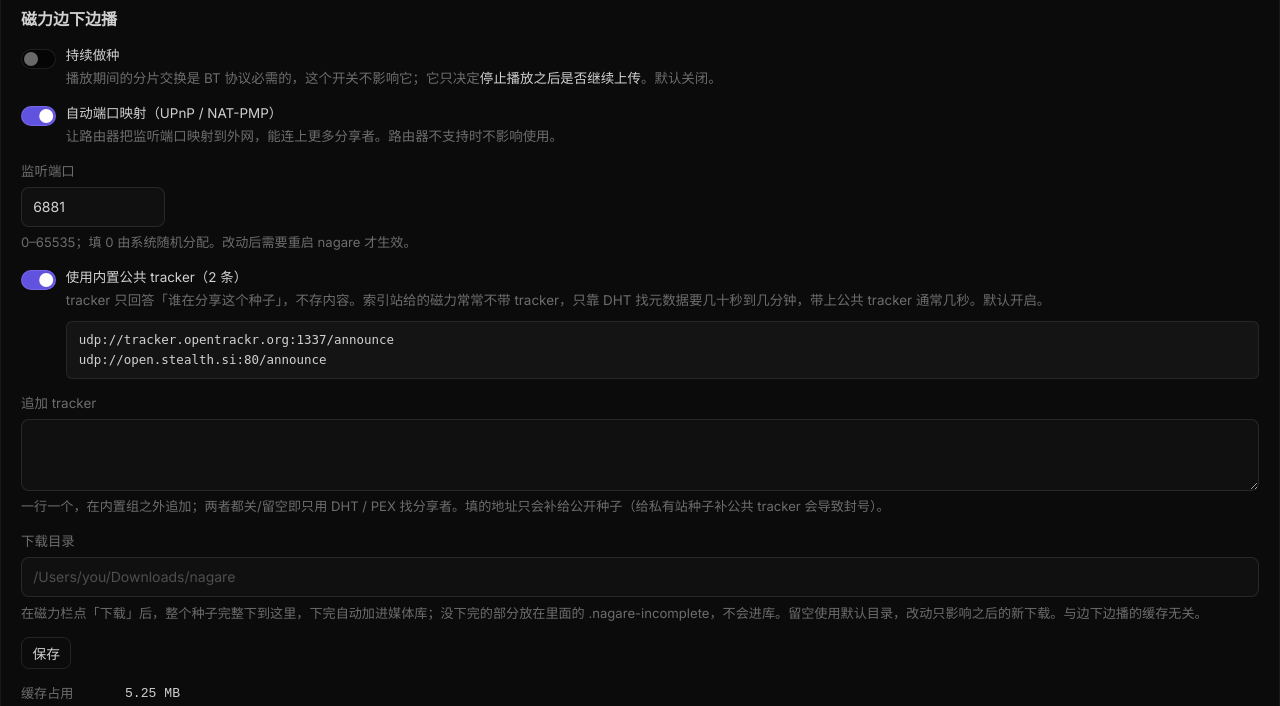
Test: TorrentCard · 受控行为 › 保存失败：显示后端中文错误，不刷新设置
Click the button "保存": click(46, 653) [21,637,71,669]
(page scrolled)
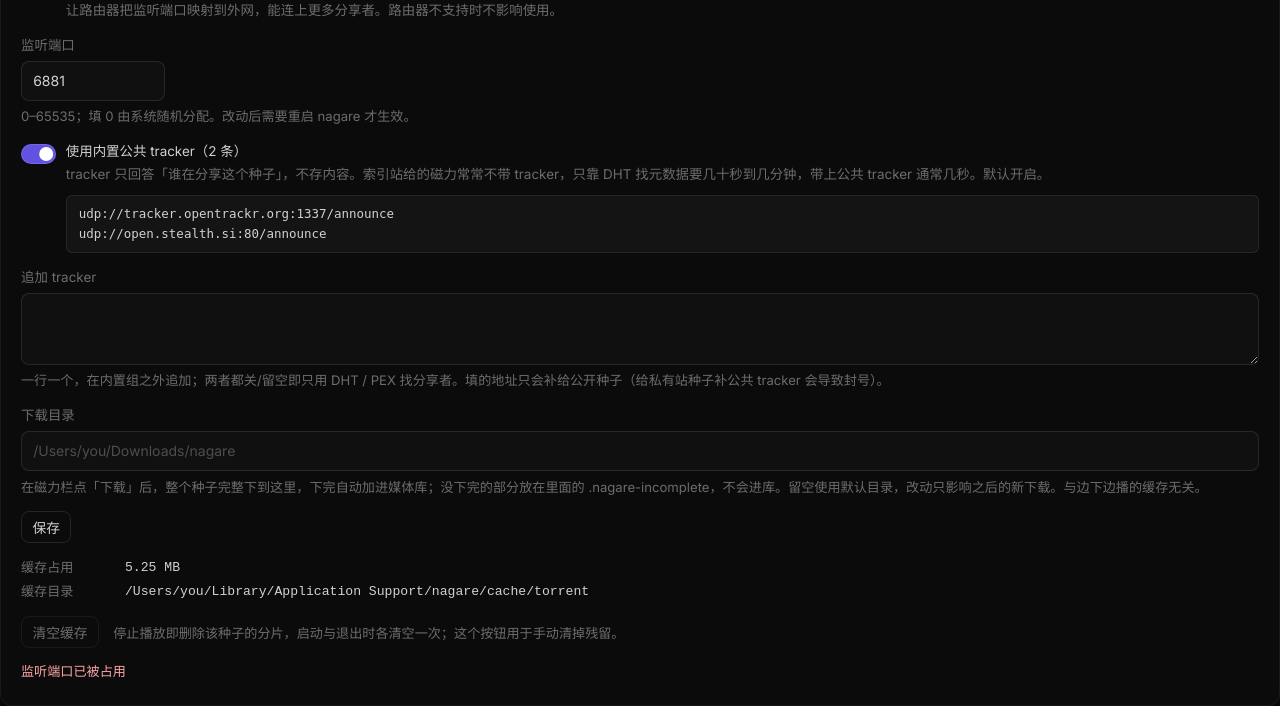
Now the message with class "result--err" reads "监听端口已被占用", box [21,665,126,680]
